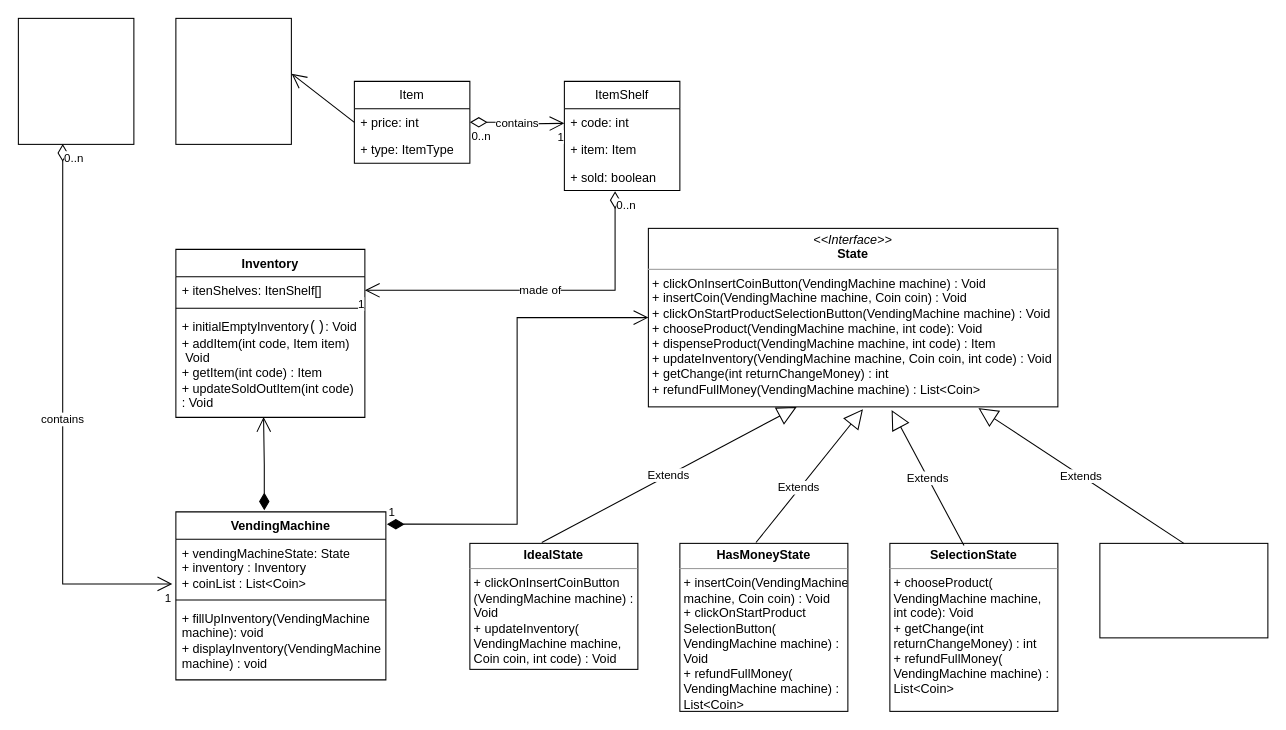
Some shapes in this 1286 by 730 pixel diagram are drawn without their labels. The shapes that lost their labels are listed below. From the top down, each one's centre as x and y in pixels, then its label:
the point at 75,80: <<Enum>> Coin ONE TWO FIVE TEN TWENTY
the point at 233,80: <<Enum>> ItemType COKE PEPSI JUICE SODA CHOCOLATE
the point at 1183,590: DispenseState + dispenseProduct( VendingMachine machine, int code) : Item
